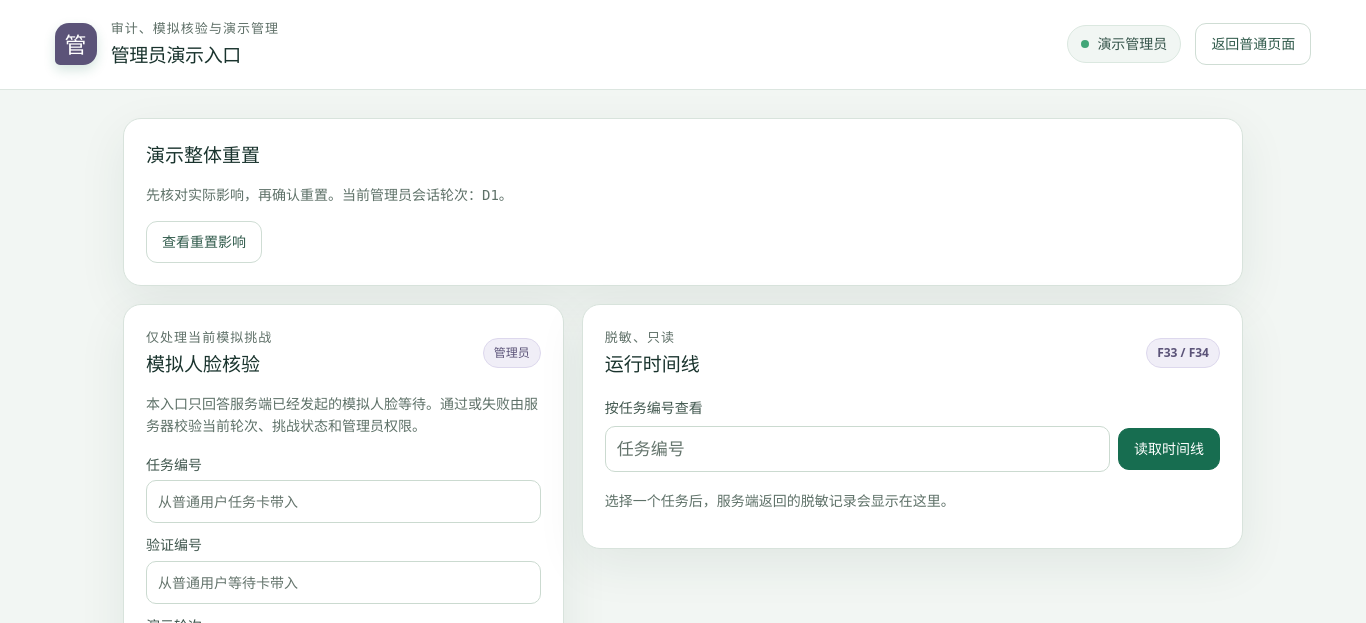
it: administrator demo reset › does not send a reset when its original request cannot be saved
Step 1. Click the button "查看重置影响" → (204, 242), box [146,221,262,263]
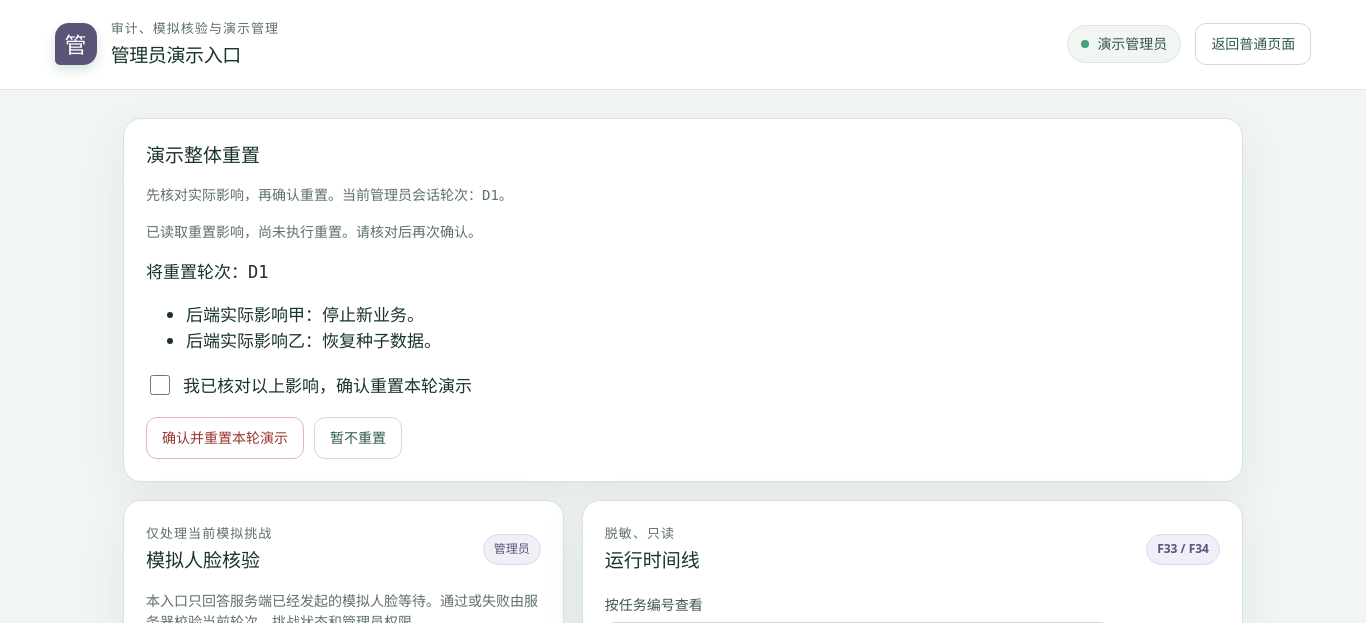
Now the list item "后端实际影响甲：停止新业务。" is shown, box [186,303,424,326]
Step 2. Click the checkbox labelled "我已核对以上影响，确认重置本轮演示" → (160, 385), box [150,375,170,395]
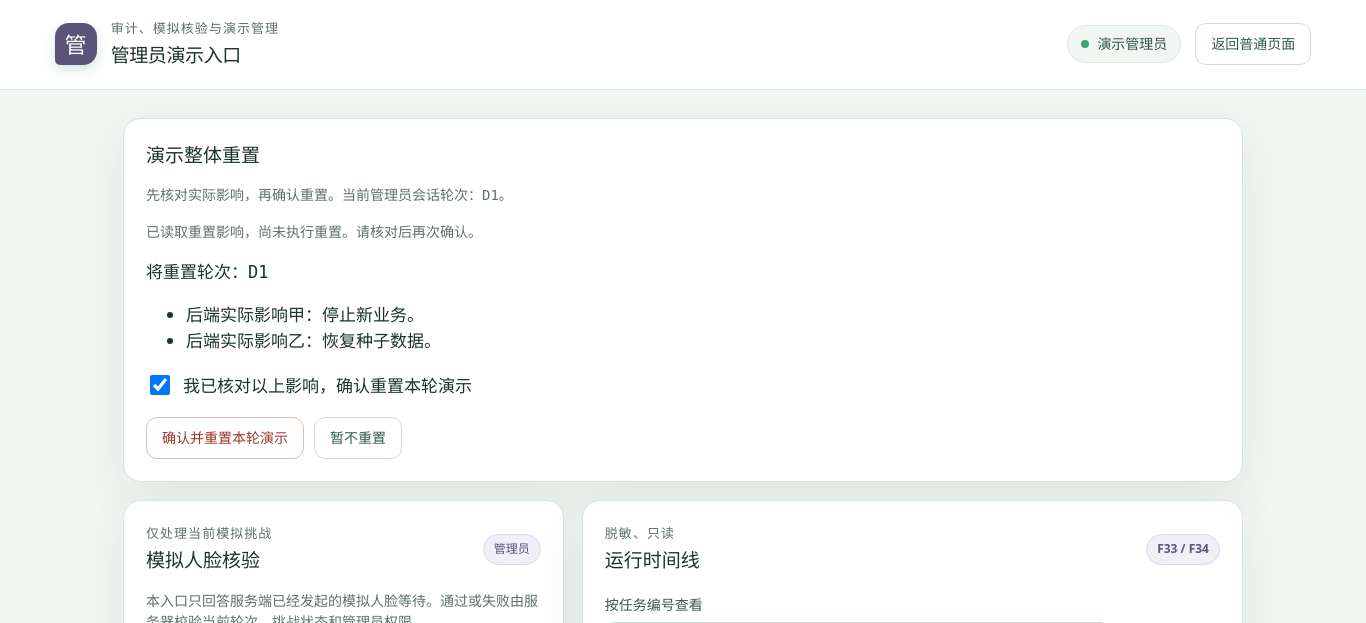
Step 3. Click the button "确认并重置本轮演示" → (225, 438), box [146,417,304,459]
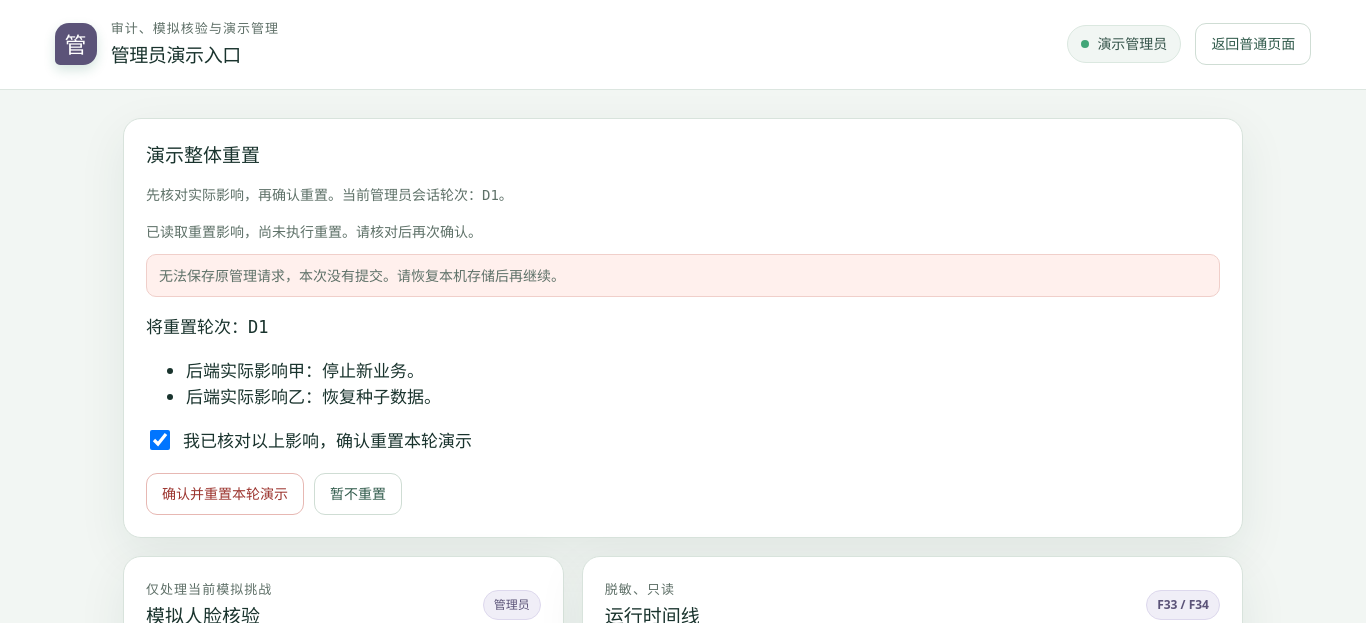
Now the text "无法保存原管理请求，本次没有提交。请恢复本机存储后再继续。" is shown, box [146,254,1220,297]
